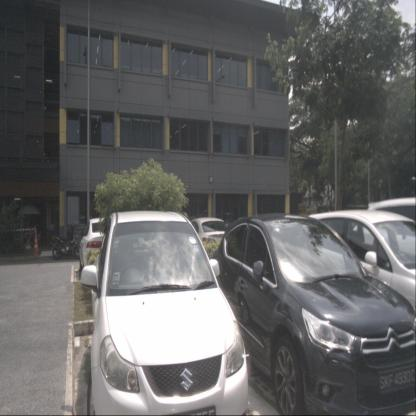cone: (33, 236, 39, 256)
